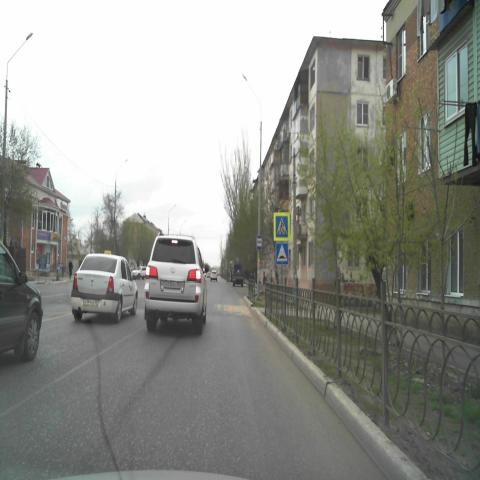5_20: (276, 242, 288, 264)
